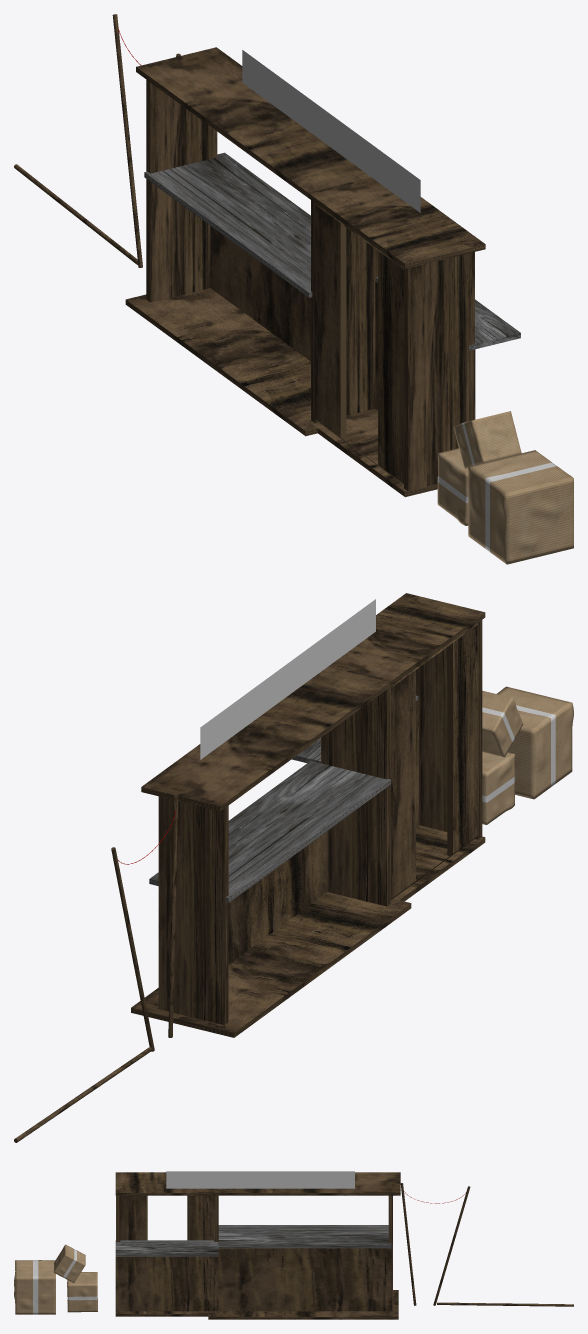
File: harju3.fbx
3 views of the same model, one above another, from view 1: azimuth 30°, elevation 25°; view 2: azimuth 150°, elevation 25°; view 3: azimuth 270°, elevation 25° (orthographic). The views are drawn at different scales.
Parts seen in each view (by area): view 1: Cube.009, Cube.004, Cube.012, Cube.011, cva, Cube.014; view 2: Cube.009, Cube.004, Cube.012, cva, Cube.011, Cube.014; view 3: Cube.009, Cube.004, Cube.012, cva, Cube.014, Cube.011.
Part boxes in pixels (x1,y1,x2,y2): Cube.009: [125, 47, 485, 497]; Cube.004: [144, 152, 520, 350]; Cube.012: [468, 450, 573, 564]; Cube.011: [453, 411, 521, 468]; cva: [14, 14, 180, 267]; Cube.014: [437, 448, 468, 525]; Cube.009: [131, 593, 485, 1037]; Cube.004: [149, 695, 418, 903]; Cube.012: [497, 686, 573, 799]; cva: [14, 795, 178, 1142]; Cube.011: [482, 690, 523, 757]; Cube.014: [482, 752, 515, 824]; Cube.009: [115, 1171, 400, 1319]; Cube.004: [115, 1225, 391, 1256]; Cube.012: [14, 1260, 55, 1314]; cva: [400, 1183, 573, 1306]; Cube.014: [67, 1272, 97, 1312]; Cube.011: [54, 1244, 85, 1282].
Size of the model in its own units: 383 by 763 by 2740.
